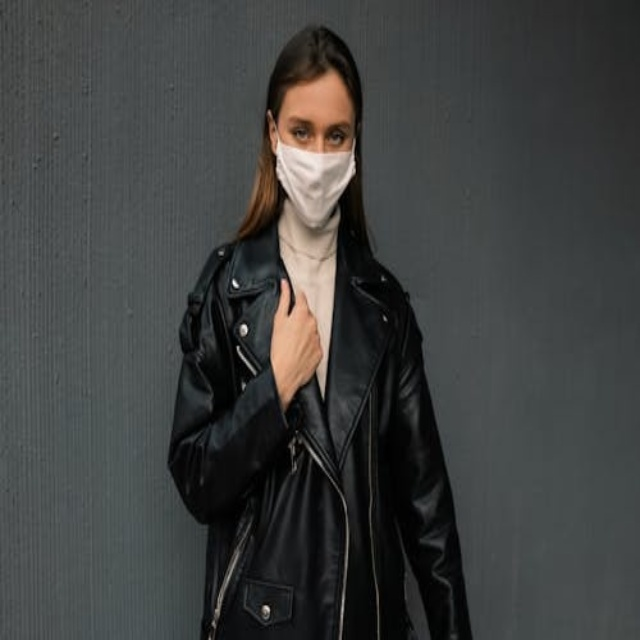Mascara: (274, 122, 356, 226)
Sin_gafas: (283, 113, 352, 152)
Sin_guantes: (274, 273, 325, 402)
